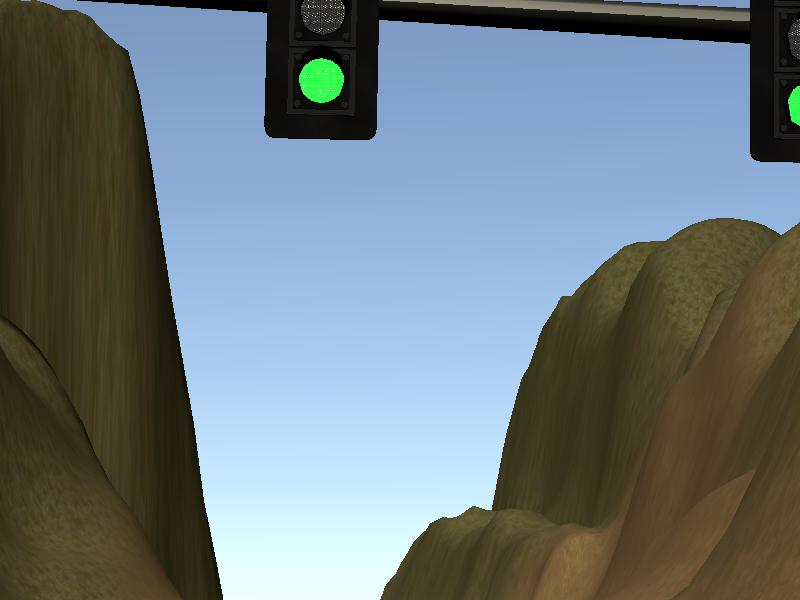not_red: (266, 6, 378, 140), (752, 2, 799, 162)
